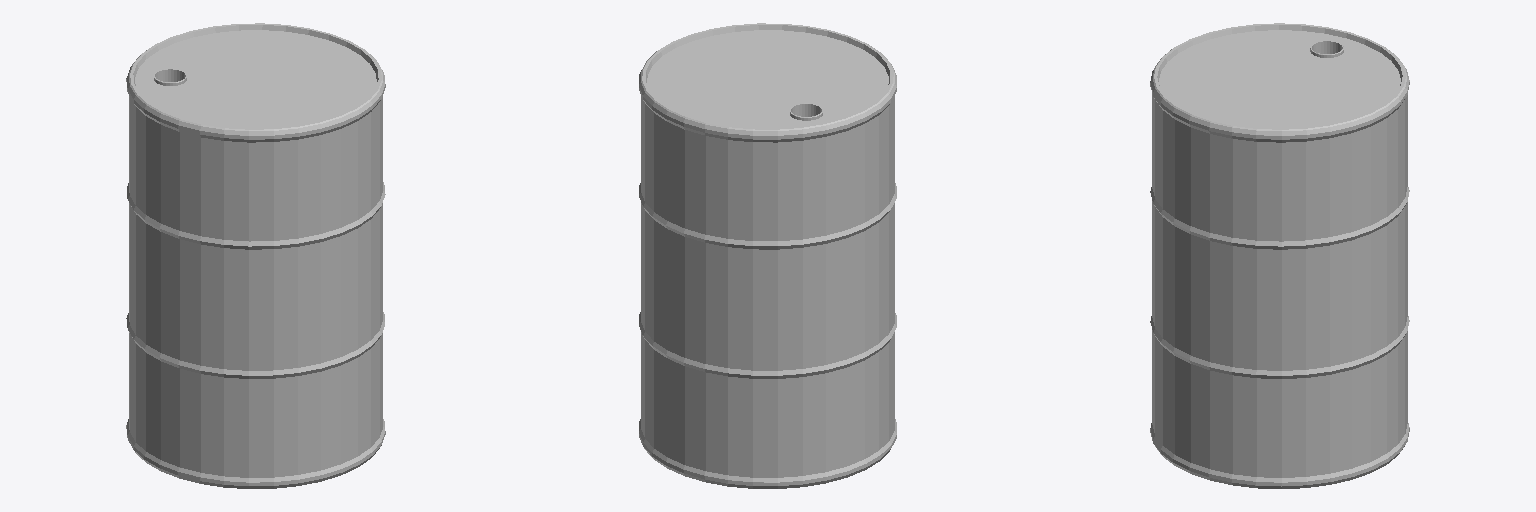
The model's file is OilDrum.obj.
The picture shows the model from 3 angles: view 1: azimuth 30°, elevation 25°; view 2: azimuth 150°, elevation 25°; view 3: azimuth 270°, elevation 25°; orthographic projection.
Parts seen in each view (by area): view 1: Cylinder.002; view 2: Cylinder.002; view 3: Cylinder.002.
Part boxes in pixels (x1,y1,x2,y2): Cylinder.002: (126, 23, 385, 488); Cylinder.002: (639, 23, 896, 488); Cylinder.002: (1150, 23, 1409, 488).
Size of the model in its own units: 0.2505 by 0.3824 by 0.2505.